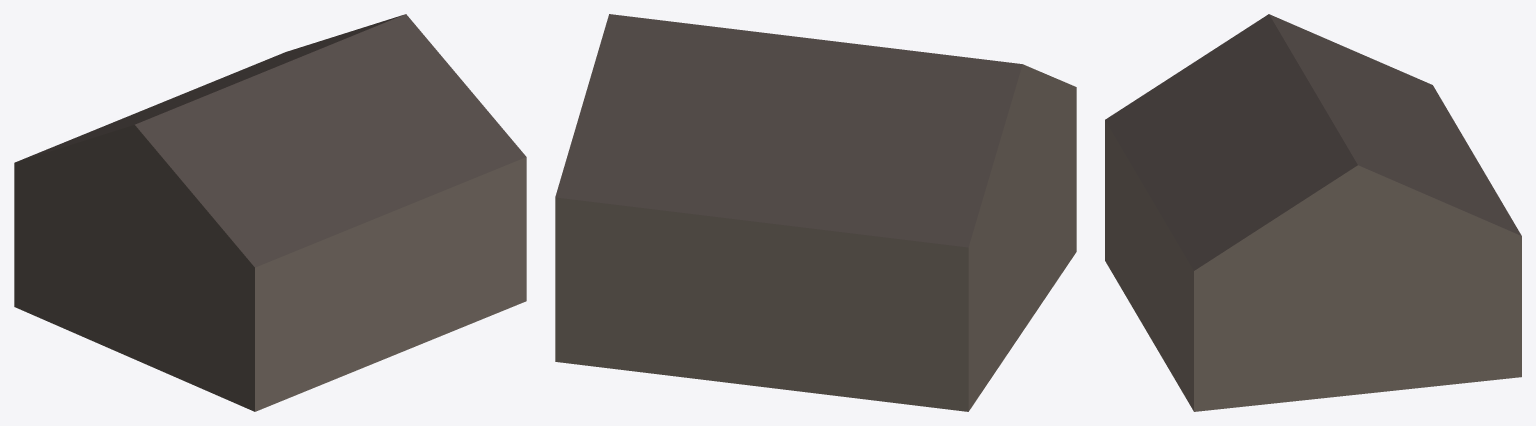
3 views of the same model, side by side, from view 1: azimuth 30°, elevation 25°; view 2: azimuth 150°, elevation 25°; view 3: azimuth 270°, elevation 25° (orthographic). The views are drawn at different scales.
Visible parts, largest first — view 1: HP-w859424260; view 2: HP-w859424260; view 3: HP-w859424260.
Boxes of the visible parts, box(x1,y1,x2,y2) form: HP-w859424260: box(14, 14, 526, 411); HP-w859424260: box(555, 14, 1076, 411); HP-w859424260: box(1105, 14, 1521, 411).
Size of the model in its own units: 16.98 by 9.77 by 16.09.
